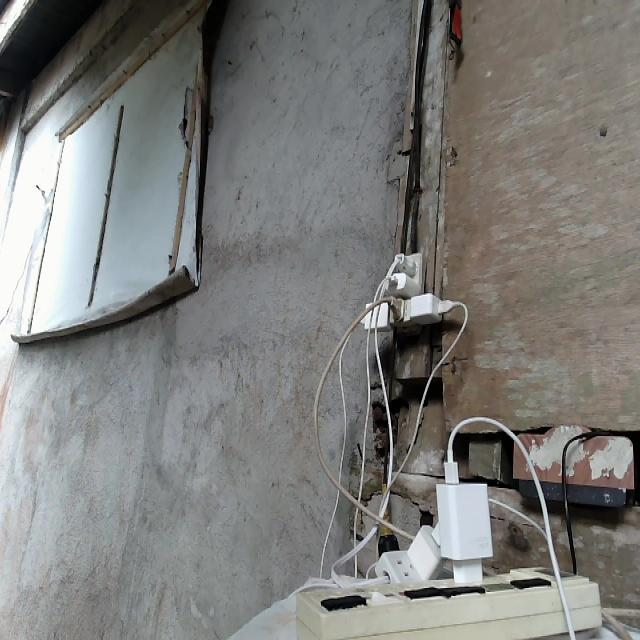-: (354, 248, 453, 331)
